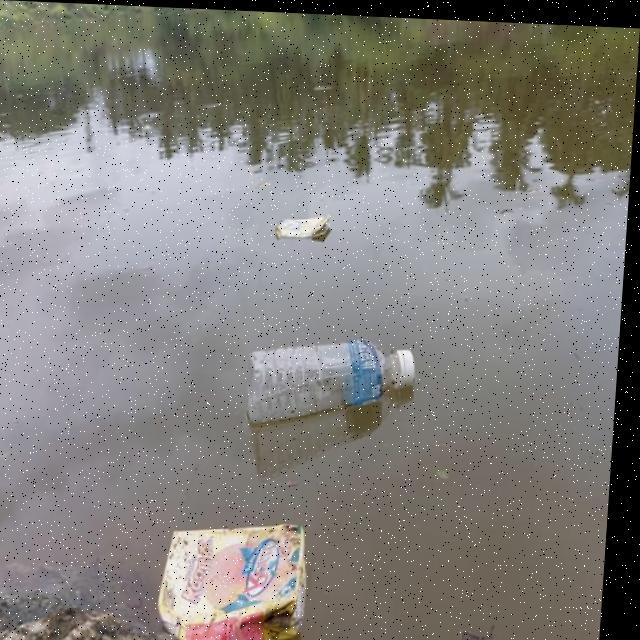paper: (146, 498, 331, 640), (270, 204, 334, 250)
waterbottle: (242, 333, 435, 427)
